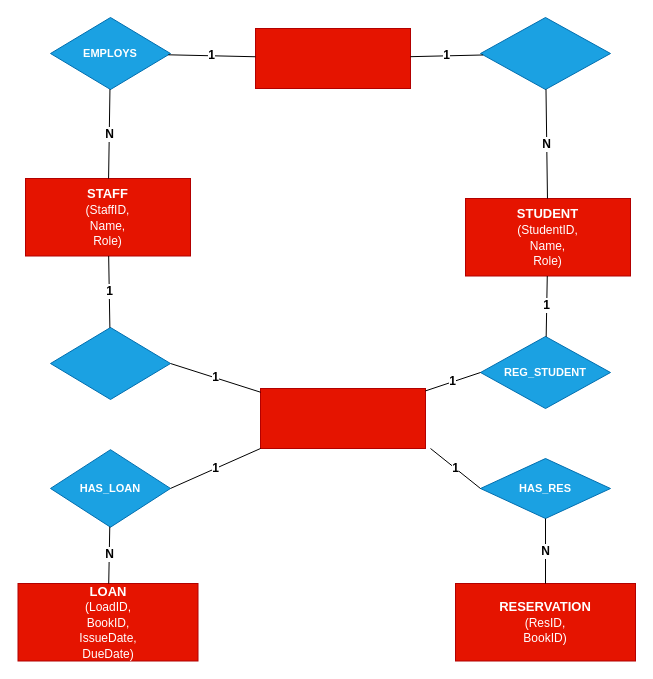
This 653x679 diagram has some shape labels left out. The centre of each missing label's shape, as x and y in pixels:
"LIBRARY (LibraryID, Name, Address )" belongs at (332,58).
"MEMBER (MemberD, Name )" belongs at (343,418).
"REG_STAFF" belongs at (110,363).
"SERVES" belongs at (545,53).
